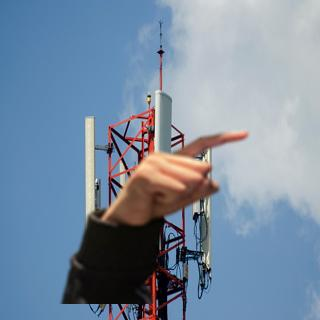WHY: (101, 118, 255, 227)
